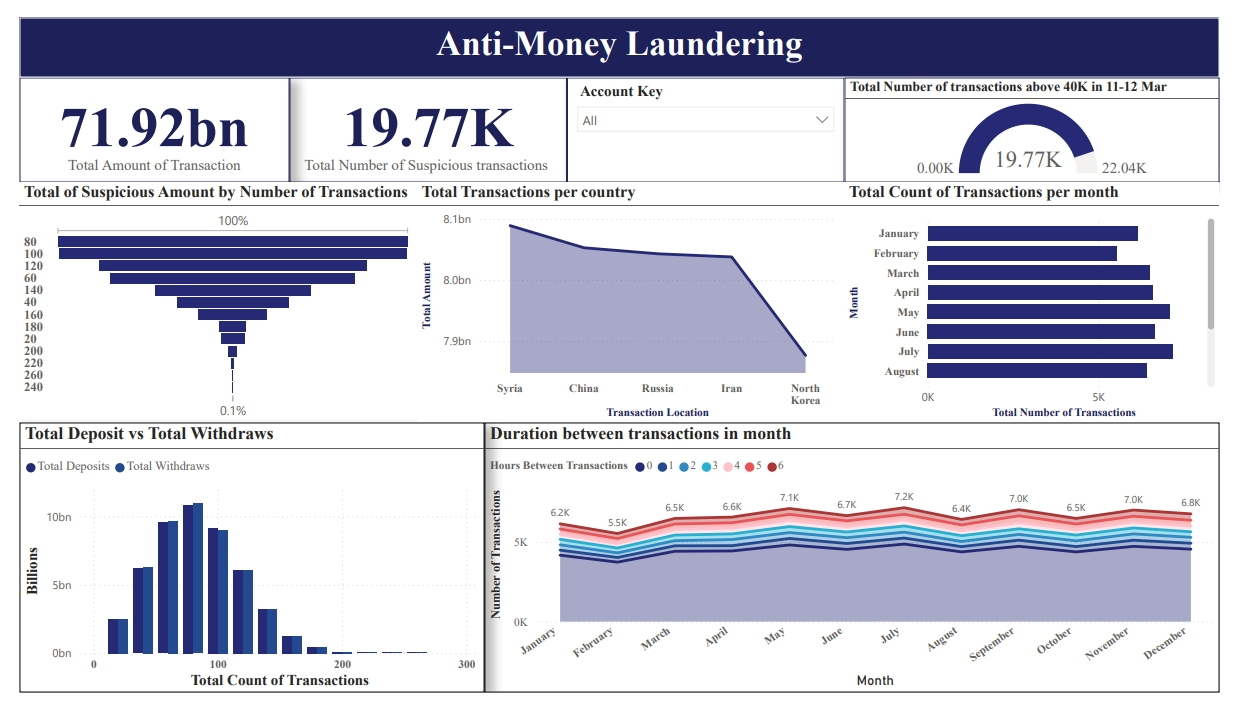

The dashboard page shown, as its layout file describes it:
{"tool":"powerbi","page":{"name":"Page 1","canvas":[1280,720],"ordinal":0},"visuals":[{"type":"card","fields":{"Values":["Sum(Transaction Value > 40.TotalAmount)"]},"box":[0,64,288,112],"z":0},{"type":"card","fields":{"Values":["CountNonNull(Total transactions.NumberOfTransactions)"]},"box":[288,64,288,112],"z":1000},{"type":"lineChart","title":"Total Transactions per country","fields":{"Category":["Sus Countries.TransactionLocation"],"Y":["Sum(Sus Countries.TotalAmount)"]},"box":[384,192,480,224],"z":2000},{"type":"funnel","fields":{"Category":["Query44.NumberOfTransactions"],"Y":["Avg(Total transactions.SuspiciousAmount)"]},"box":[0,192,384,224],"z":3000},{"type":"stackedAreaChart","title":"Duration between transactions in month","fields":{"Series":["Transactions per day.HoursBetweenTransactions"],"Category":["Transactions per day.NextTransactionDate.Variation.Date Hierarchy.Month"],"Y":["CountNonNull(Transactions per day.AccountKey)"]},"box":[496,432,784,288],"z":4000},{"type":"textbox","box":[0,0,1280,64],"z":5000},{"type":"clusteredColumnChart","title":"Total Deposit vs Total Withdraws","fields":{"Y":["Sum(Transaction type.TotalDeposits)","Sum(Transaction type.TotalWithdrawals)"],"Category":["Total transactions.NumberOfTransactions"]},"box":[0,432,480,288],"z":6000},{"type":"slicer","fields":{"Values":["Transaction Value > 40.AccountKey"]},"box":[576,64,288,112],"z":7000},{"type":"gauge","title":"Total Number of transactions above 40K in 11-12 Mar","fields":{"Y":["CountNonNull(Transaction Value > 40.AccountKey)"],"MaxValue":["CountNonNull(11-12 Mar.AccountKey)"]},"box":[864,64,400,112],"z":8000},{"type":"barChart","title":"Total Count of Transactions per month","fields":{"Category":["Transactions per day.Date.Variation.Date Hierarchy.Month"],"Y":["CountNonNull(Transactions per day.AccountKey)"]},"box":[864,192,400,224],"z":9000}]}

Visuals, with their boxes in screenshot pixels (x1, y1, x2, y2), scaled from the page's 1280x720 canvas onto the 1236x703 screenshot:
card - Sum(Transaction Value > 40.TotalAmount): BBox(0, 62, 278, 172)
card - CountNonNull(Total transactions.NumberOfTransactions): BBox(278, 62, 556, 172)
"Total Transactions per country" lineChart: BBox(371, 187, 834, 406)
funnel - Query44.NumberOfTransactions x Avg(Total transactions.SuspiciousAmount): BBox(0, 187, 371, 406)
"Duration between transactions in month" stackedAreaChart: BBox(479, 422, 1235, 702)
textbox: BBox(0, 0, 1235, 62)
"Total Deposit vs Total Withdraws" clusteredColumnChart: BBox(0, 422, 464, 702)
slicer - Transaction Value > 40.AccountKey: BBox(556, 62, 834, 172)
"Total Number of transactions above 40K in 11-12 Mar" gauge: BBox(834, 62, 1221, 172)
"Total Count of Transactions per month" barChart: BBox(834, 187, 1221, 406)
